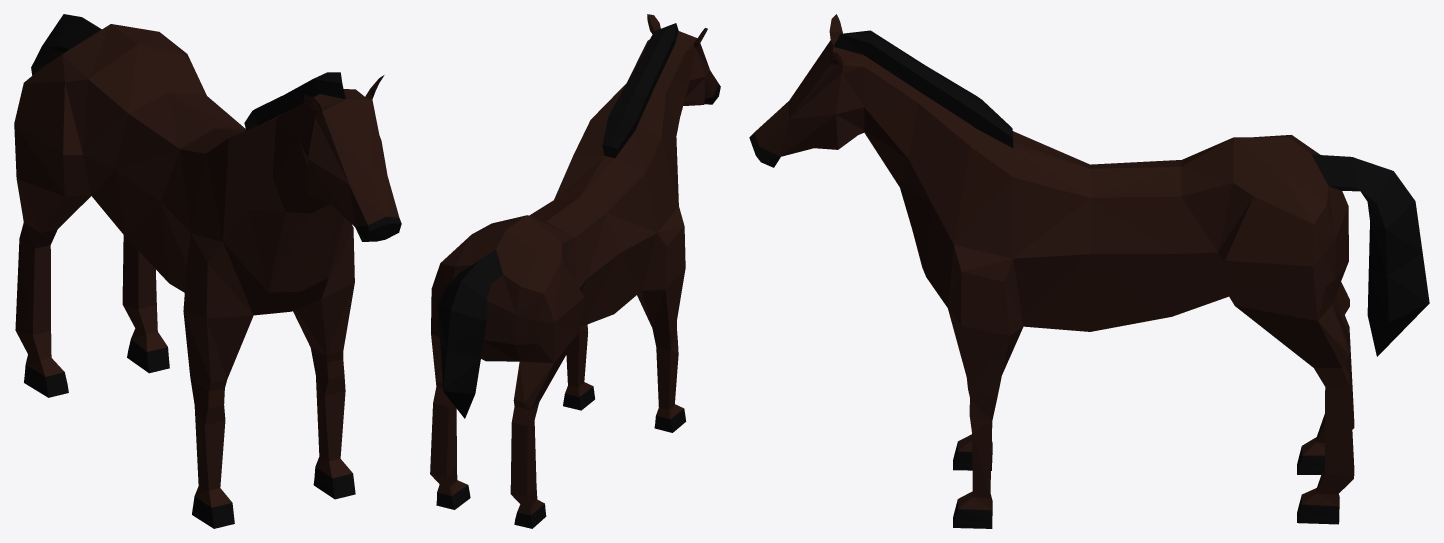
Rendered from Horse.obj.
3 renders of one model, left to right at view 1: azimuth 30°, elevation 25°; view 2: azimuth 150°, elevation 25°; view 3: azimuth 270°, elevation 25°, orthographic. The views are drawn at different scales.
Visible parts, largest first — view 1: Horse; view 2: Horse; view 3: Horse.
Part boxes in pixels (bbox=[...]): Horse: bbox=[14, 14, 401, 528]; Horse: bbox=[430, 14, 720, 528]; Horse: bbox=[749, 14, 1429, 528].
Size of the model in its own units: 2.56 by 6.91 by 9.24.
